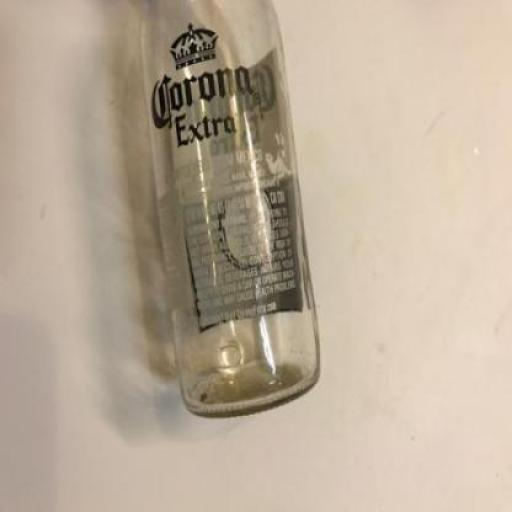glass: (144, 2, 320, 423)
